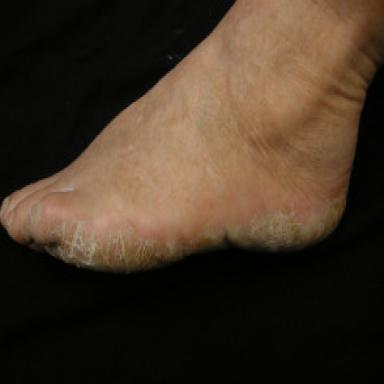eczema: (27, 200, 346, 271)
